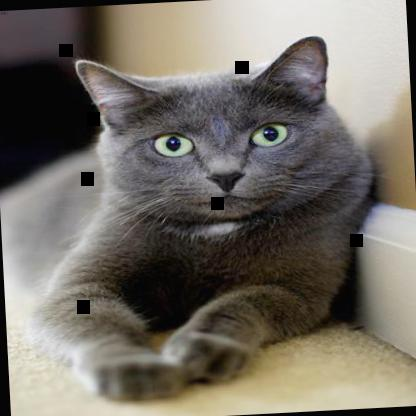cat: (0, 31, 385, 409)
